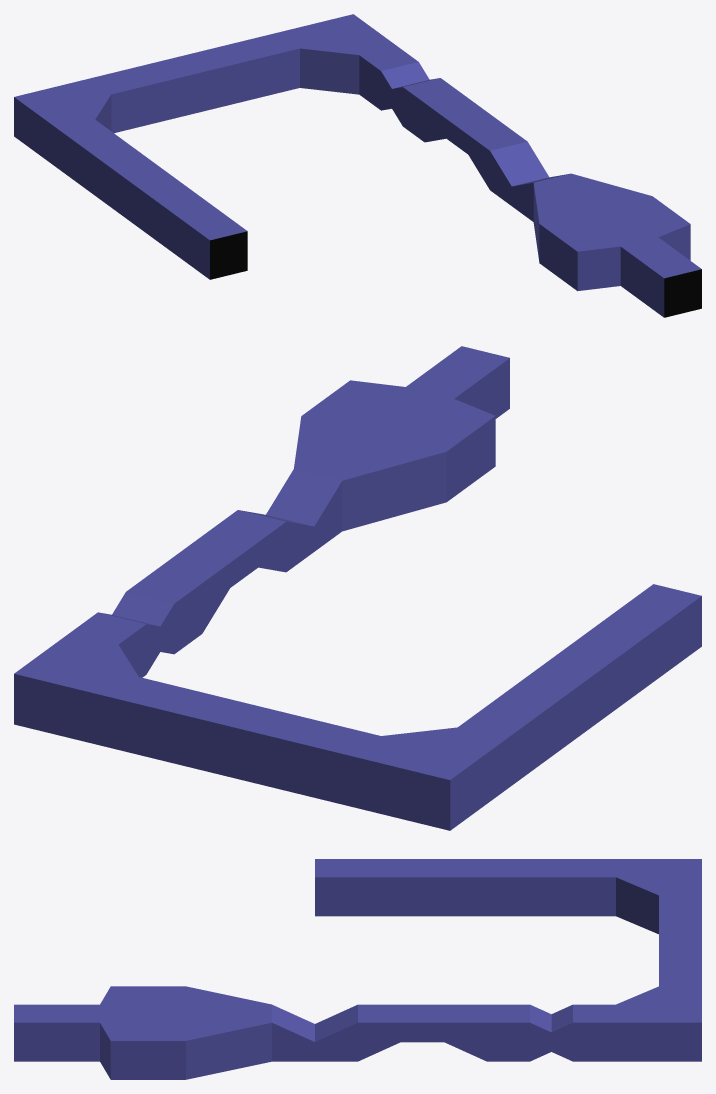
The model's file is hospital_interior.glb.
The picture shows the model from 3 angles, top to bottom: view 1: azimuth 30°, elevation 25°; view 2: azimuth 150°, elevation 25°; view 3: azimuth 270°, elevation 25°; orthographic projection. The views are drawn at different scales.
Parts seen in each view (by area): view 1: HospitalInterior; view 2: HospitalInterior; view 3: HospitalInterior.
Boxes of the visible parts, x1=… form: HospitalInterior: x1=14, y1=14, x2=701, y2=317; HospitalInterior: x1=14, y1=346, x2=701, y2=830; HospitalInterior: x1=14, y1=859, x2=701, y2=1079.
Bounding box in the file's own units: 10 × 1 × 16.
Materials: 1 (1 with a texture image).
